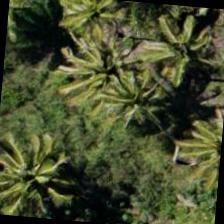Kelapa_Sawit: (60, 24, 158, 122), (87, 52, 185, 150), (137, 5, 223, 103), (0, 132, 83, 222), (46, 0, 142, 64)
